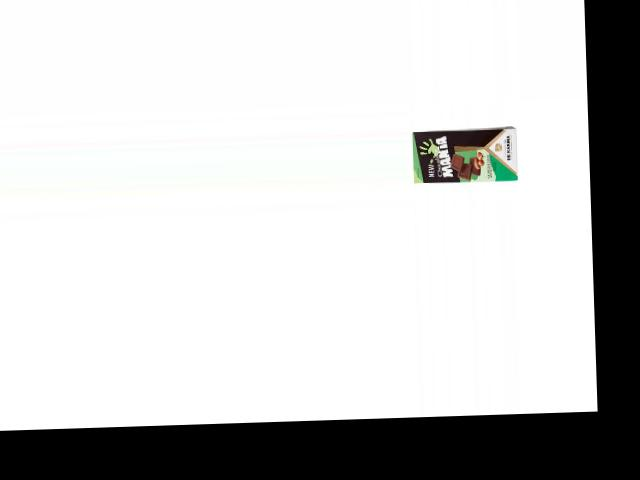chocolate: (410, 125, 520, 186)
